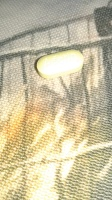Aferin: (35, 49, 85, 79)
